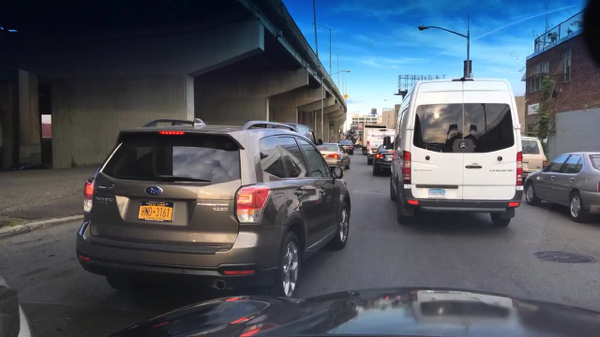car: (74, 118, 354, 301), (388, 75, 524, 230), (521, 150, 599, 224), (520, 131, 552, 189), (364, 127, 396, 166), (280, 121, 325, 147), (316, 141, 352, 172), (370, 142, 397, 177), (2, 160, 52, 172), (338, 137, 357, 158), (353, 140, 364, 149)
traffic sign: (343, 93, 349, 102)
truck: (361, 122, 389, 156)
